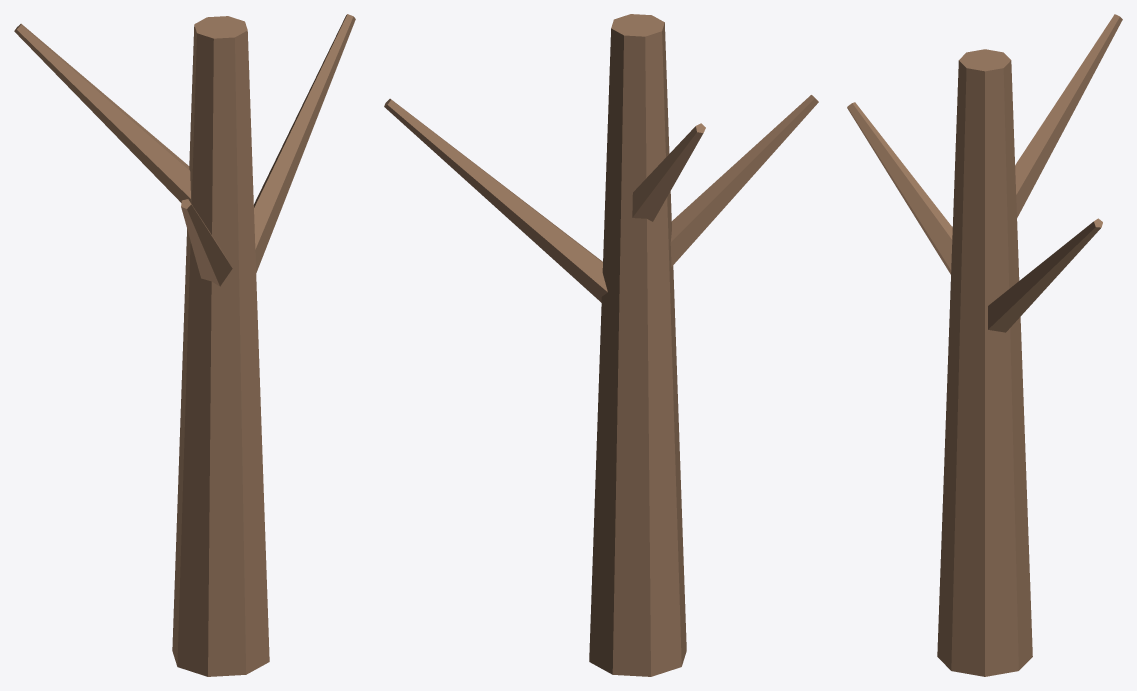
File: TREE-dead-10.glb
The picture shows the model from 3 angles, left to right: view 1: azimuth 30°, elevation 25°; view 2: azimuth 150°, elevation 25°; view 3: azimuth 270°, elevation 25°; orthographic projection. The views are drawn at different scales.
Parts seen in each view (by area): view 1: TREE-dead-10; view 2: TREE-dead-10; view 3: TREE-dead-10.
Boxes of the visible parts, x1,y1,x2,y2 form: TREE-dead-10: [14, 14, 355, 676]; TREE-dead-10: [384, 14, 818, 676]; TREE-dead-10: [847, 14, 1122, 676].
Size of the model in its own units: 1.36 by 2.48 by 1.04.
